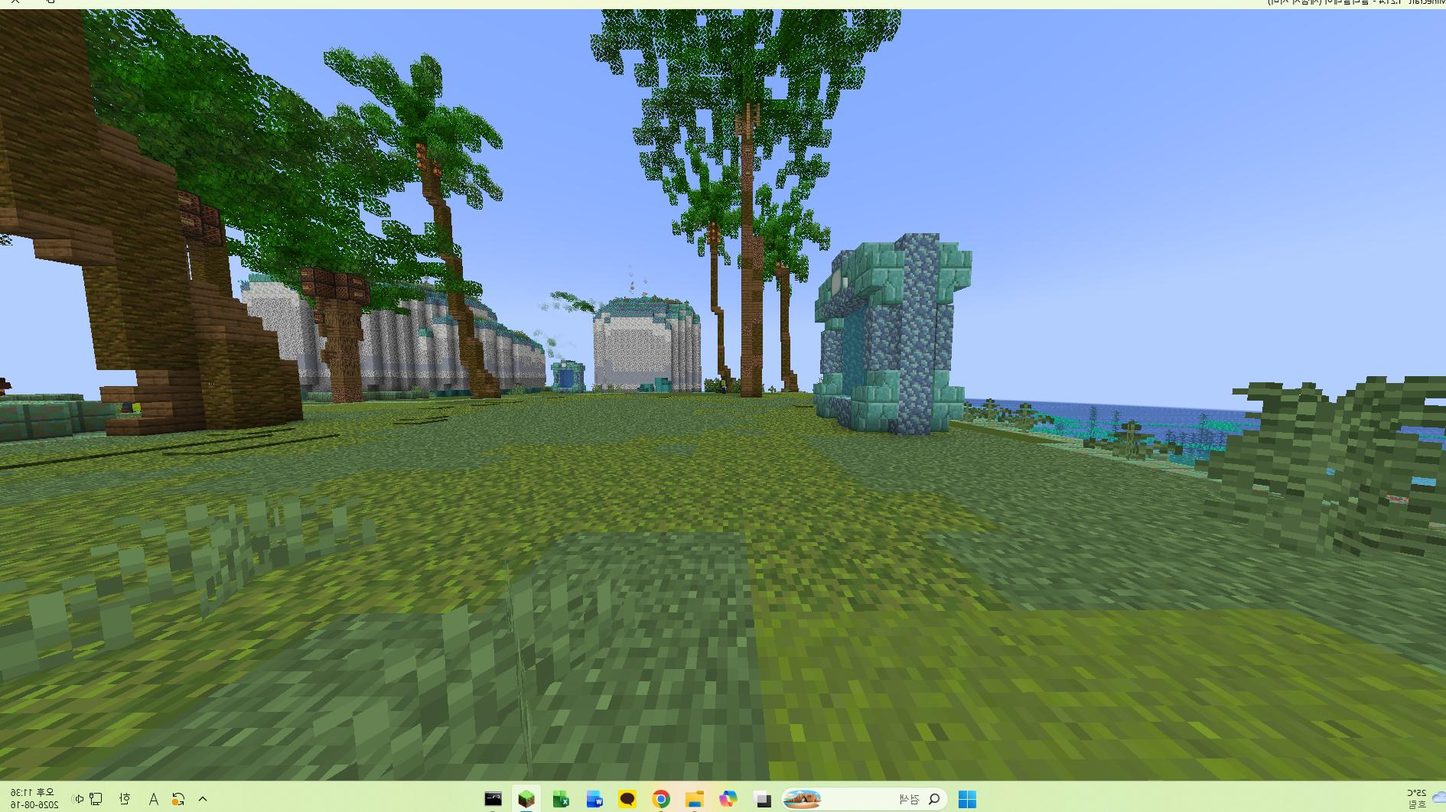Guardian: (719, 375, 729, 394)
